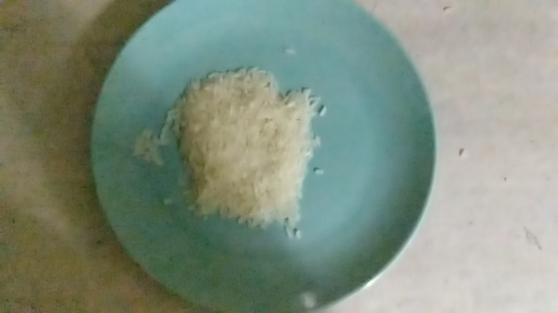rice: (149, 67, 333, 240)
